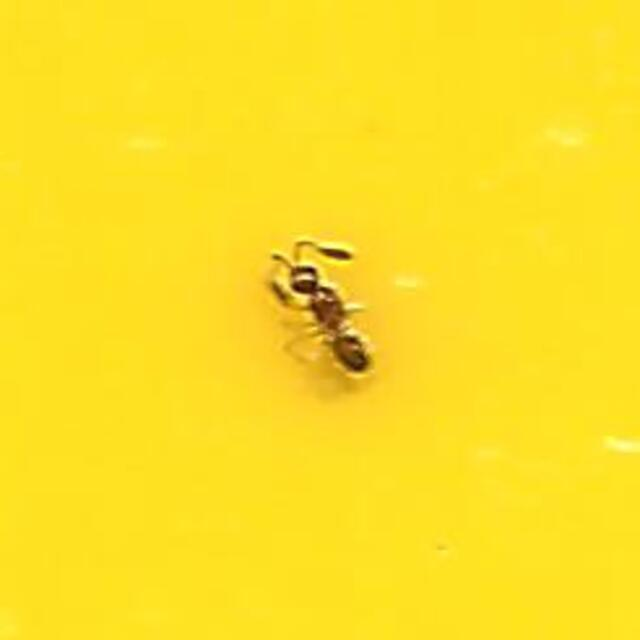Hymenoptera: (260, 237, 380, 403)
